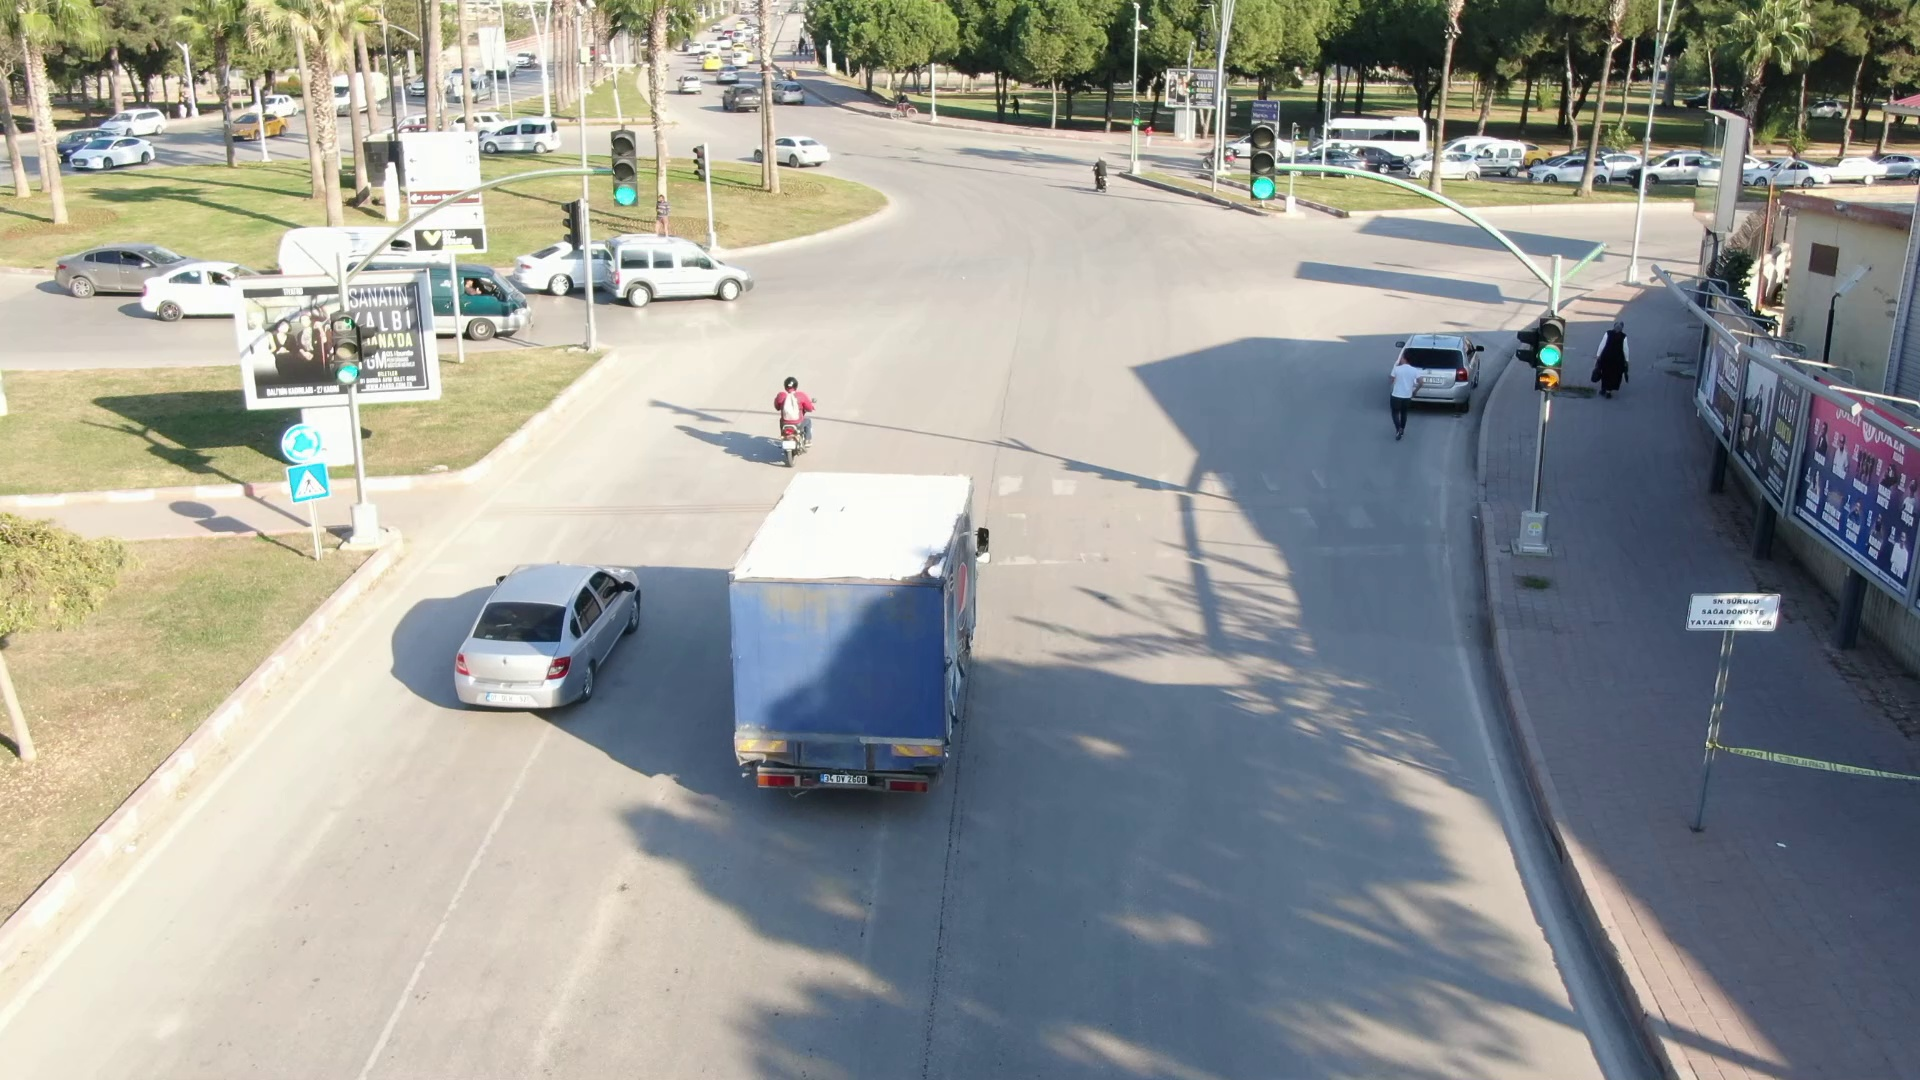car: (440, 543, 658, 720), (601, 230, 762, 314), (48, 231, 206, 308), (426, 256, 530, 346), (67, 131, 167, 177), (751, 130, 836, 173), (1522, 151, 1612, 190), (716, 80, 767, 115), (671, 72, 706, 95)
person: (752, 363, 832, 429), (1582, 305, 1635, 405), (1376, 347, 1425, 444)
